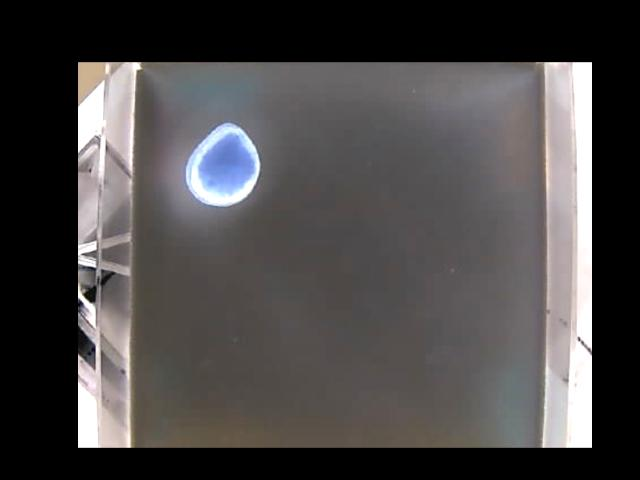Potato: (184, 119, 261, 210)
